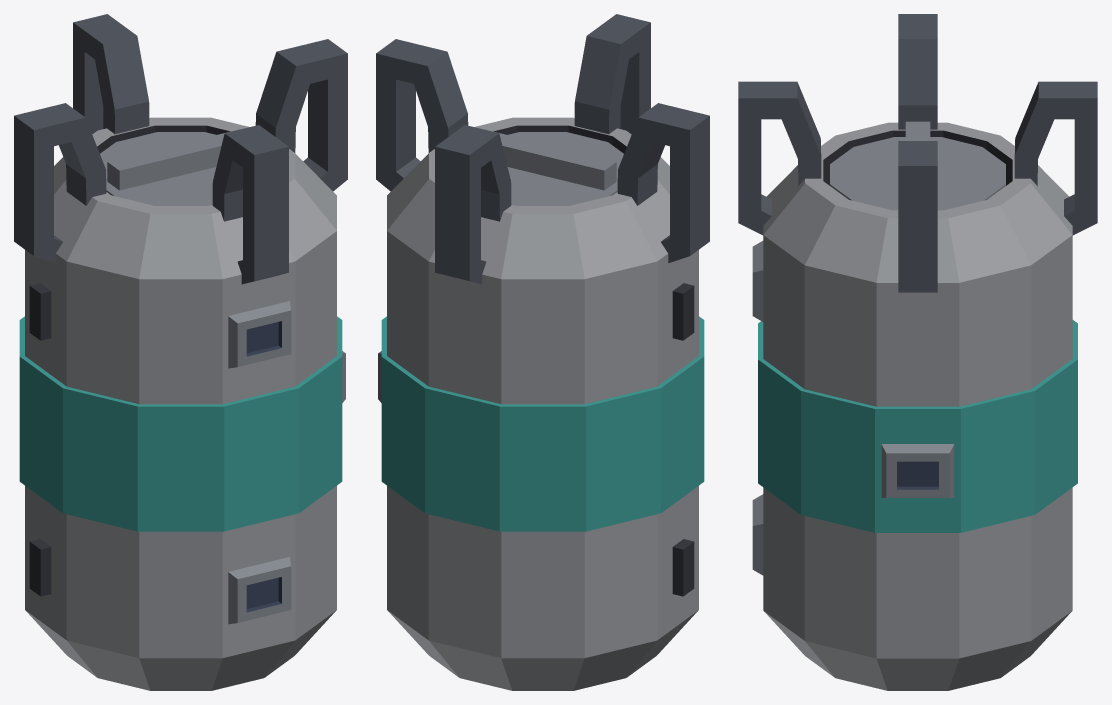
File: supply-canister-4b70f5.glb
3 renders of one model, left to right at view 1: azimuth 30°, elevation 25°; view 2: azimuth 150°, elevation 25°; view 3: azimuth 270°, elevation 25°, orthographic.
Visible parts, largest first — view 1: canister-shell, lid-mesh; view 2: canister-shell, lid-mesh; view 3: canister-shell, lid-mesh.
Boxes of the visible parts, box(x1,y1,x2,y2) form: canister-shell: box(14, 14, 347, 690); lid-mesh: box(100, 128, 242, 205); canister-shell: box(376, 14, 709, 690); lid-mesh: box(481, 128, 623, 205); canister-shell: box(738, 14, 1097, 690); lid-mesh: box(830, 121, 1005, 210).
Bounding box in the file's own units: 0.53 × 0.9 × 0.53.
